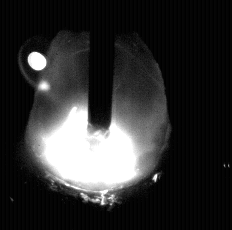arame: (89, 0, 112, 135)
poca: (24, 0, 168, 230)
